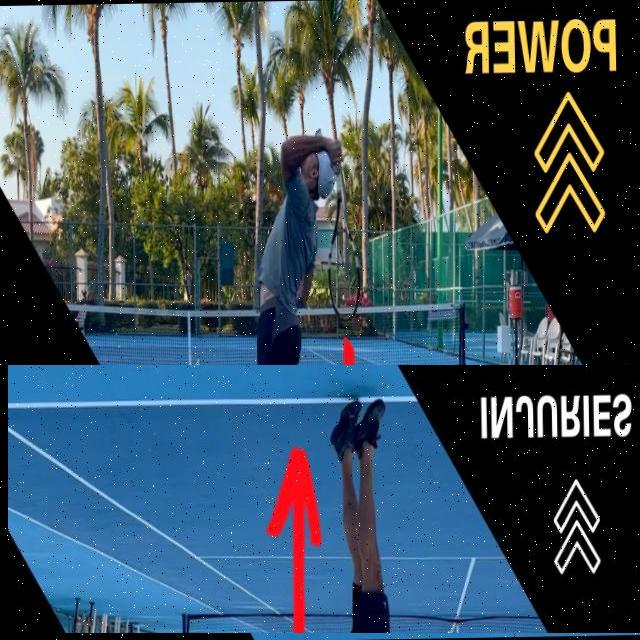court: (8, 365, 640, 633)
net: (28, 302, 466, 391)
player: (246, 111, 370, 604)
